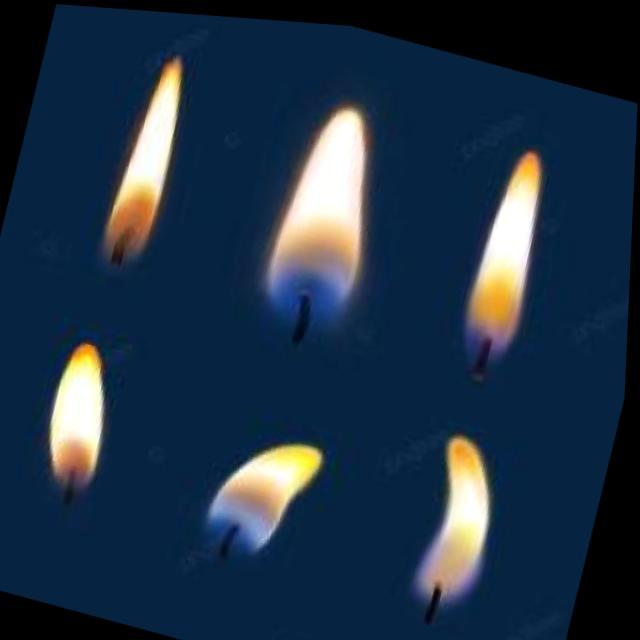fire: (261, 90, 395, 328), (458, 135, 560, 365), (101, 46, 195, 272), (206, 420, 330, 564), (415, 425, 513, 607), (42, 336, 126, 490)
